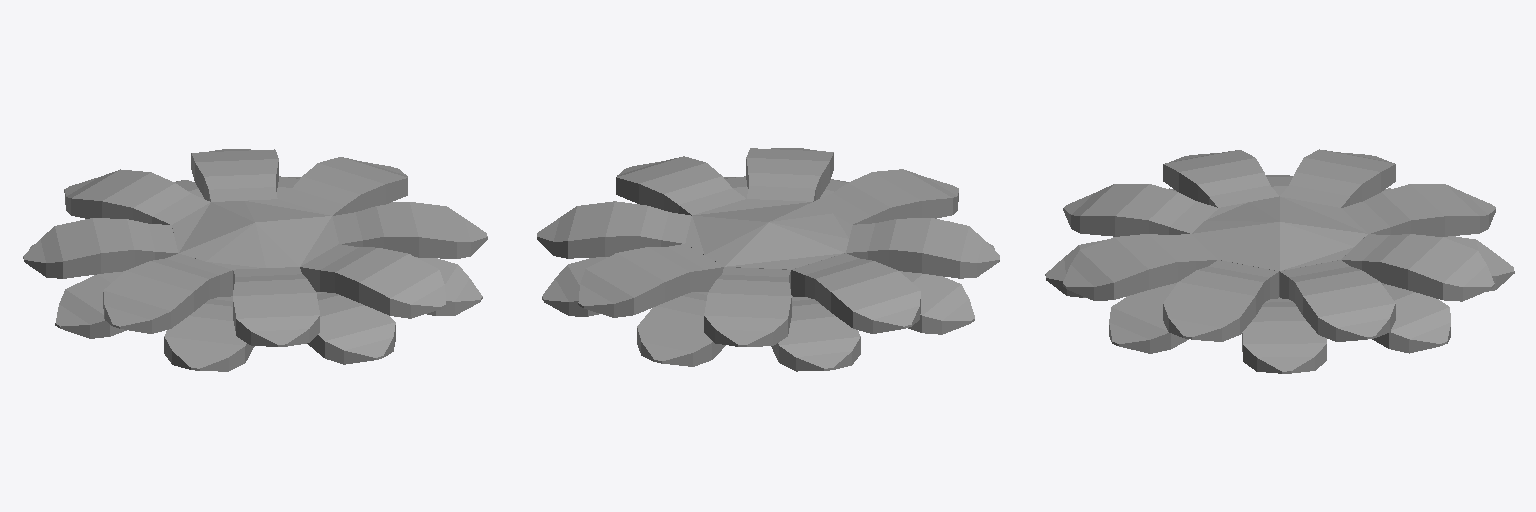
Rendered from Flower2.obj.
The picture shows the model from 3 angles: view 1: azimuth 30°, elevation 25°; view 2: azimuth 150°, elevation 25°; view 3: azimuth 270°, elevation 25°; orthographic projection.
Visible parts, largest first — view 1: Cube_Cube.002; view 2: Cube_Cube.002; view 3: Cube_Cube.002.
Part boxes in pixels (x1,y1,x2,y2): Cube_Cube.002: (23,149,487,371); Cube_Cube.002: (537,148,999,371); Cube_Cube.002: (1045,149,1514,373).
Size of the model in its own units: 4.26 by 0.6818 by 4.28.